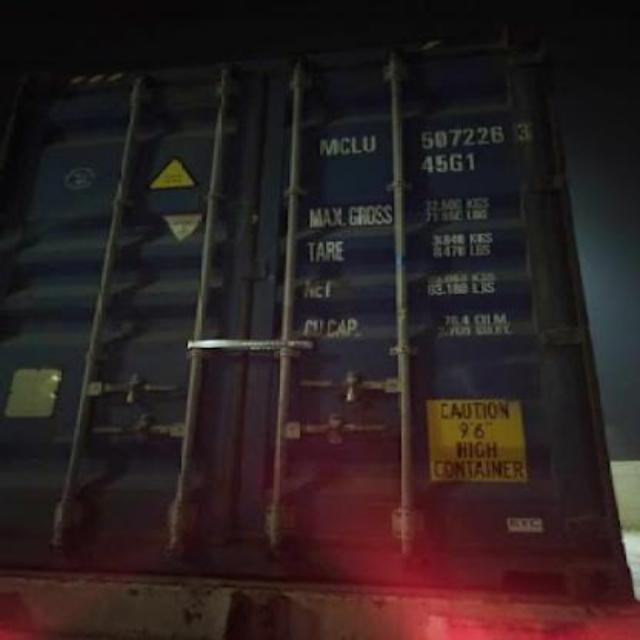0: (434, 127, 448, 151)
2: (462, 122, 476, 148), (476, 122, 489, 146)
3: (516, 116, 532, 144)
5: (414, 127, 434, 151)
6: (491, 122, 504, 144)
7: (446, 125, 462, 148)
C: (336, 128, 349, 158)
L: (350, 131, 362, 155)
M: (316, 132, 338, 158)
U: (360, 130, 376, 154)
